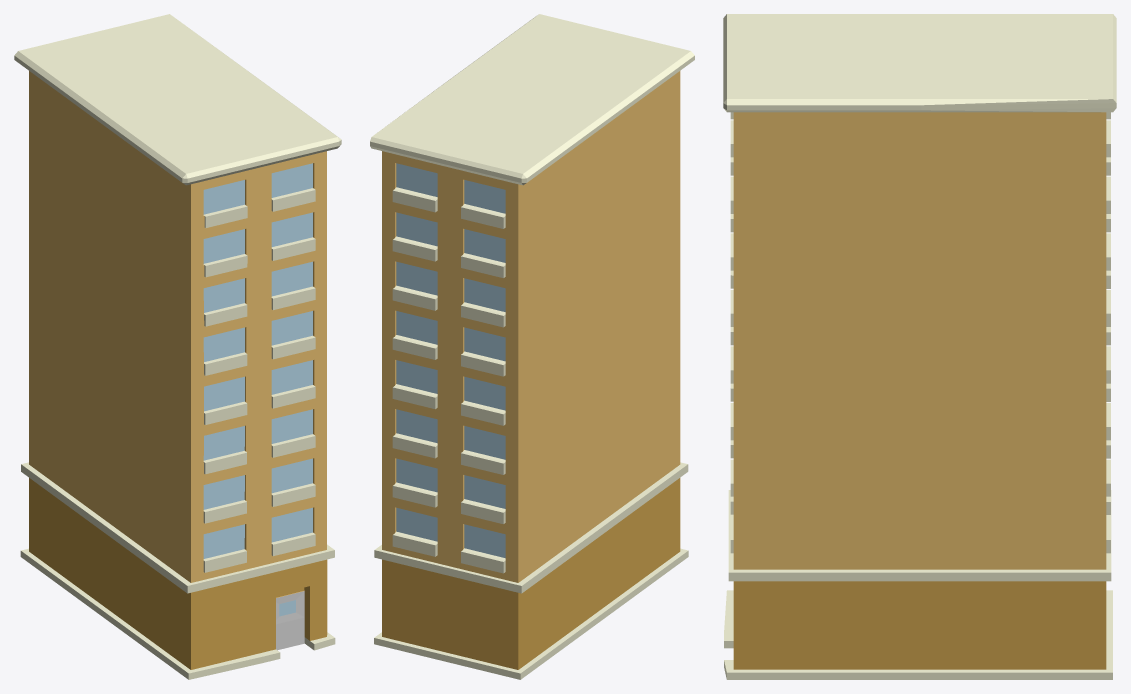
Rendered from flatB.fbx.
The picture shows the model from 3 angles, left to right: view 1: azimuth 30°, elevation 25°; view 2: azimuth 150°, elevation 25°; view 3: azimuth 270°, elevation 25°; orthographic projection. The views are drawn at different scales.
Parts seen in each view (by area): view 1: FlatB; view 2: FlatB; view 3: FlatB.
Boxes of the visible parts, x1,y1,x2,y2 form: FlatB: [14, 14, 341, 679]; FlatB: [370, 14, 694, 679]; FlatB: [723, 14, 1116, 679].
Size of the model in its own units: 1102 by 3349 by 2049.
